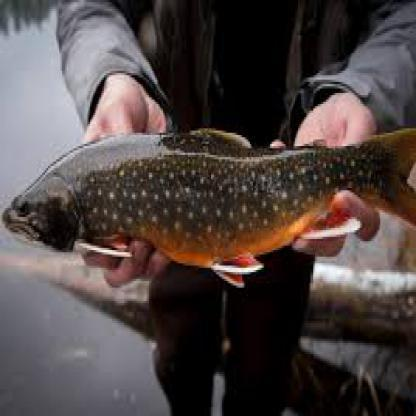fish: (0, 118, 415, 287)
